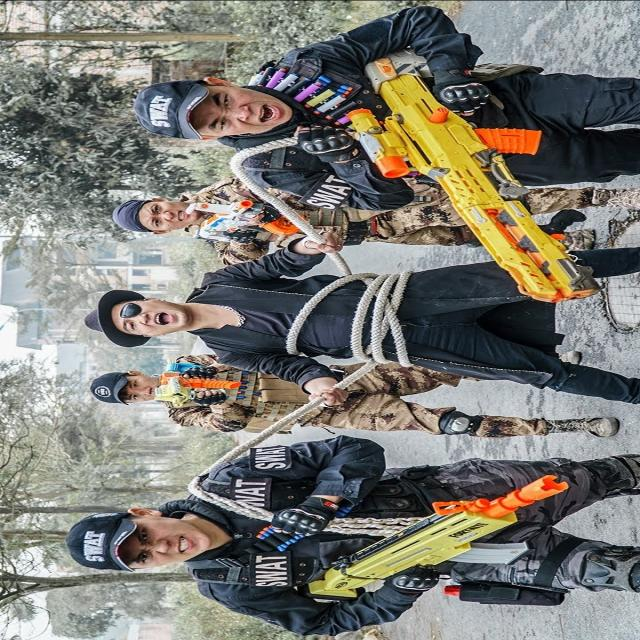Nerf gun: (342, 43, 609, 305), (294, 471, 570, 610), (182, 195, 302, 253), (137, 359, 245, 410)
